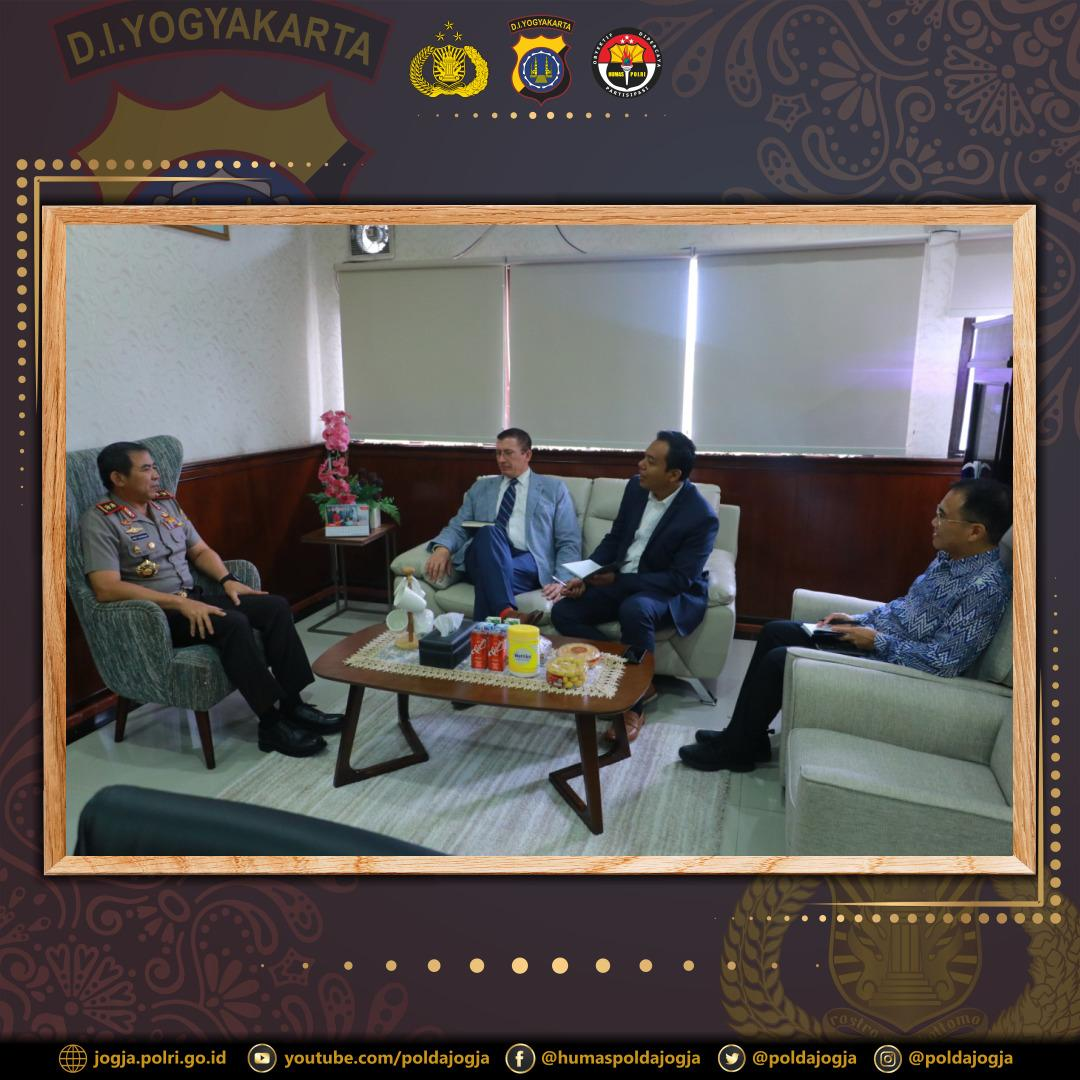meja: (320, 605, 639, 832)
